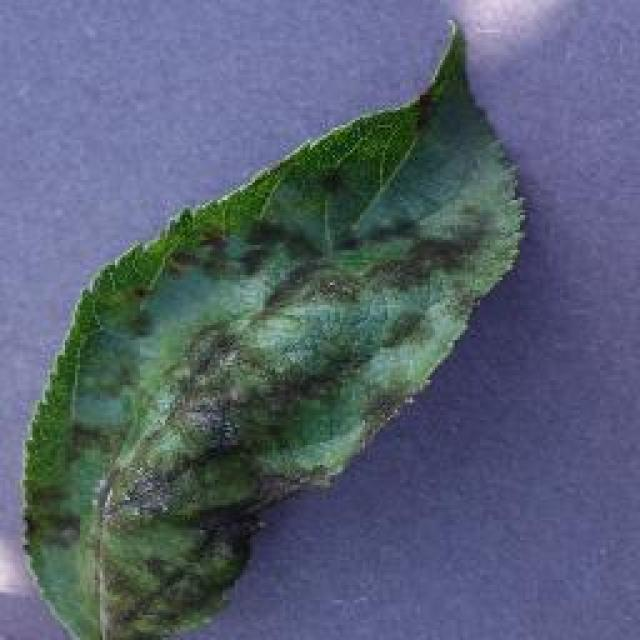apple scab disease: (18, 15, 530, 637)
